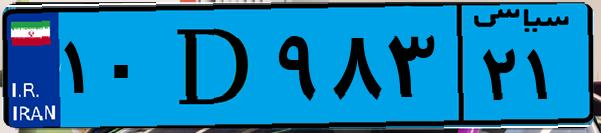0: (110, 28, 158, 98)
1: (57, 26, 110, 100), (525, 38, 570, 115)
2: (475, 38, 525, 113)
3: (385, 28, 445, 110)
8: (330, 28, 385, 110)
9: (270, 28, 330, 110)
D: (158, 12, 270, 120)
